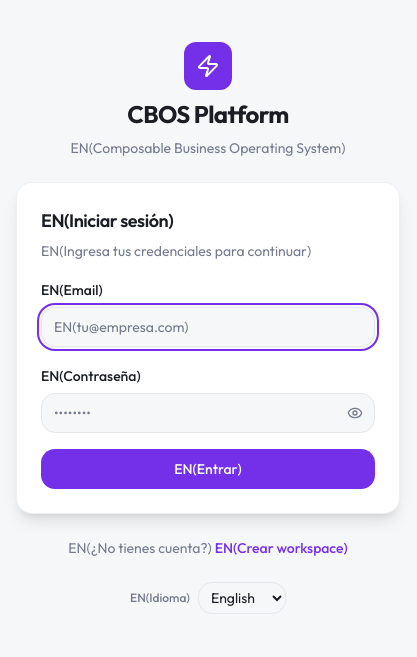
Test: Login, in a second language › translates the fallback error too
The width and height of the screenshot is (417, 657).
Type "a@b.co" into the field labelled "EN(Email)" at (208, 327), box [41,307,375,347]
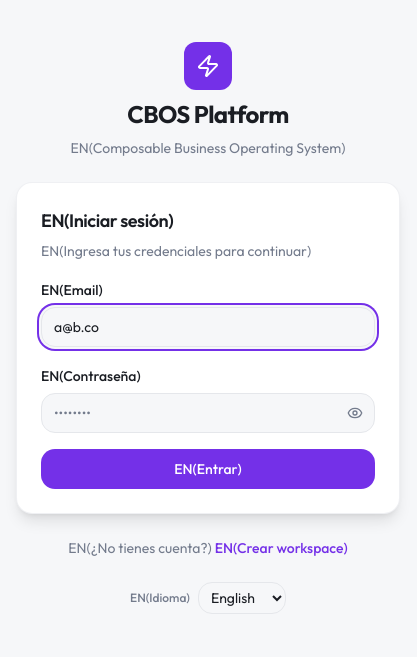
Type "x" into the password field labelled "EN(Contraseña)" at (208, 413), box [41,393,375,433]
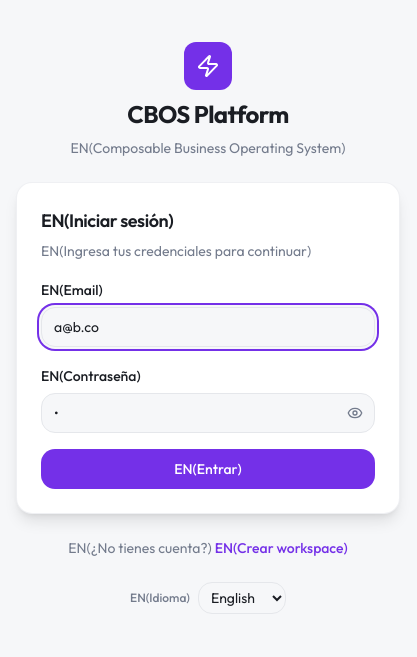
Click the button "EN(Entrar)" at (208, 469), box [41,449,375,489]
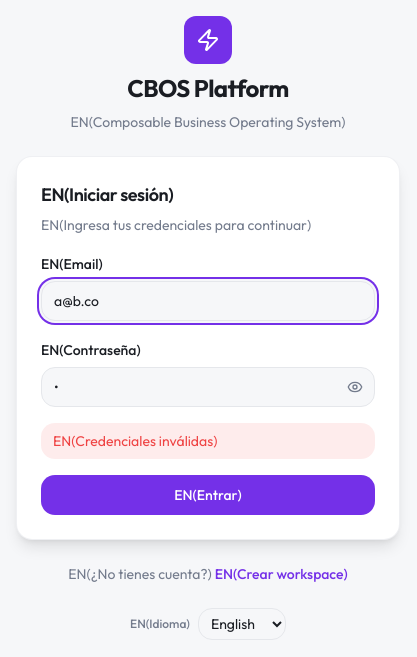
expect the text "EN(Credenciales inválidas)" is shown: met, box [41,423,375,459]
